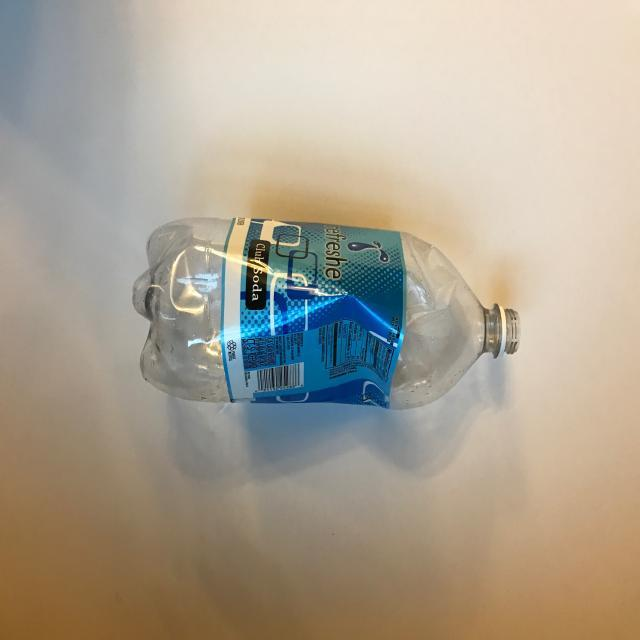plastic: (132, 212, 548, 440)
